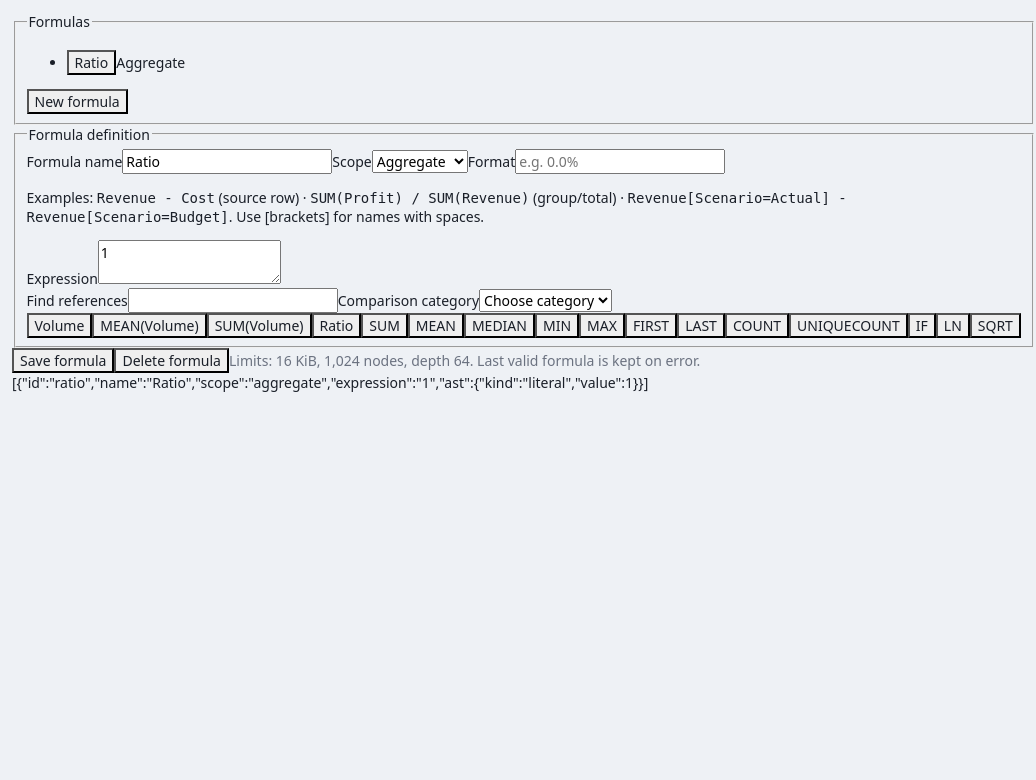
Test: resets inserted member proof when switching formula drafts
Select "Year (native)" in the dropdown labelled "Comparison category" at (546, 300), box [479,288,612,312]
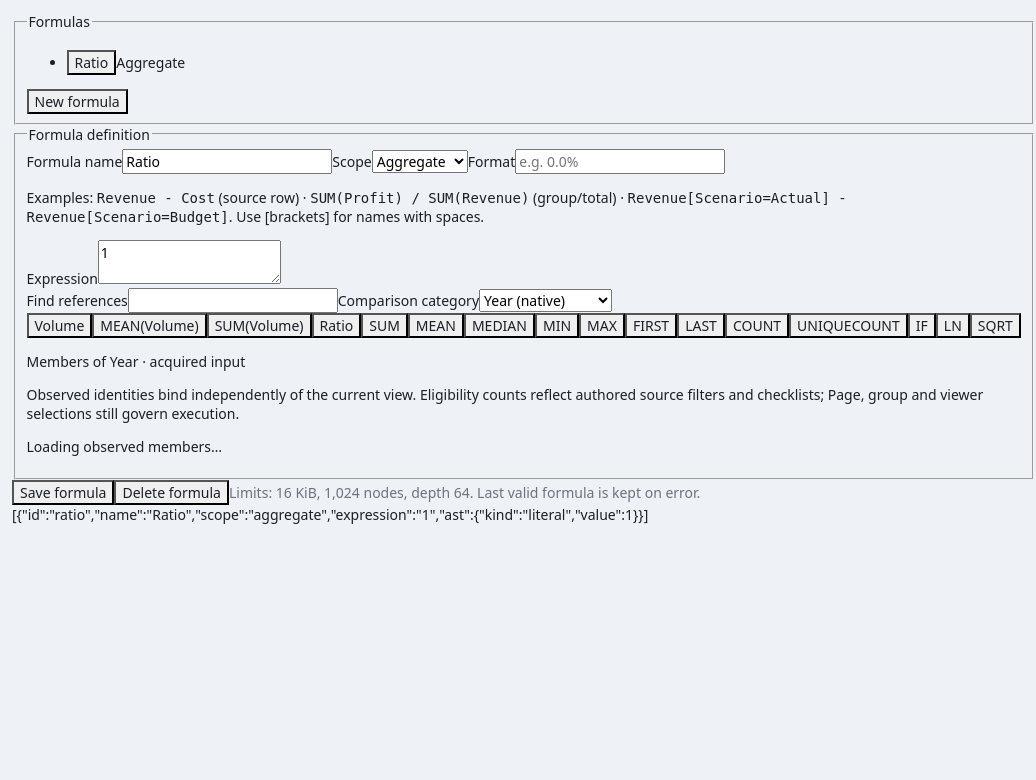
Replace the text in the text box labelled "Expression" with "[Volume — Average]" at (189, 262), box [98,240,281,284]
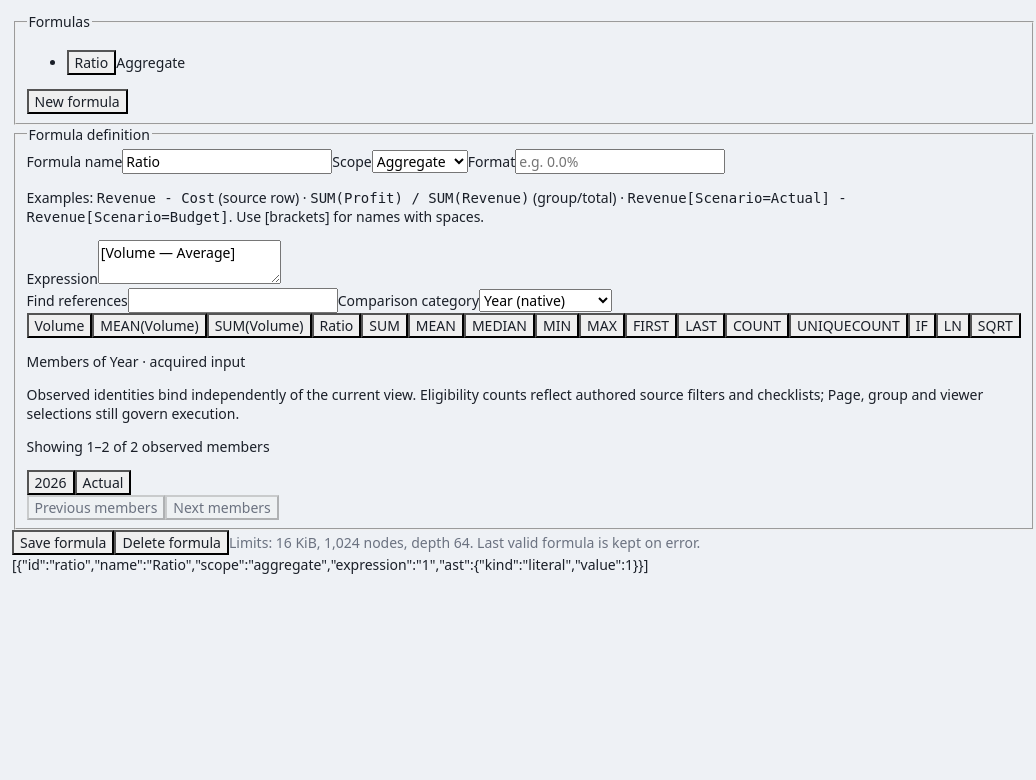
Click the button named "Insert 2026" at (50, 482), box [26,470,74,494]
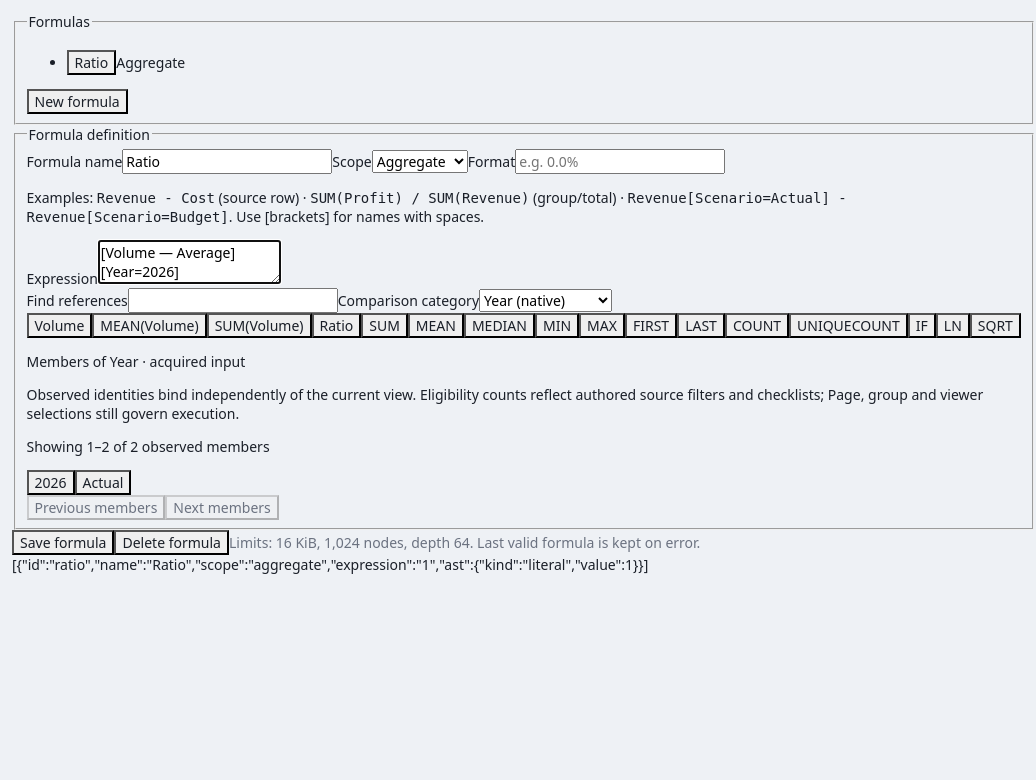
Click the button "New formula" at (77, 101), box [26,89,128,114]
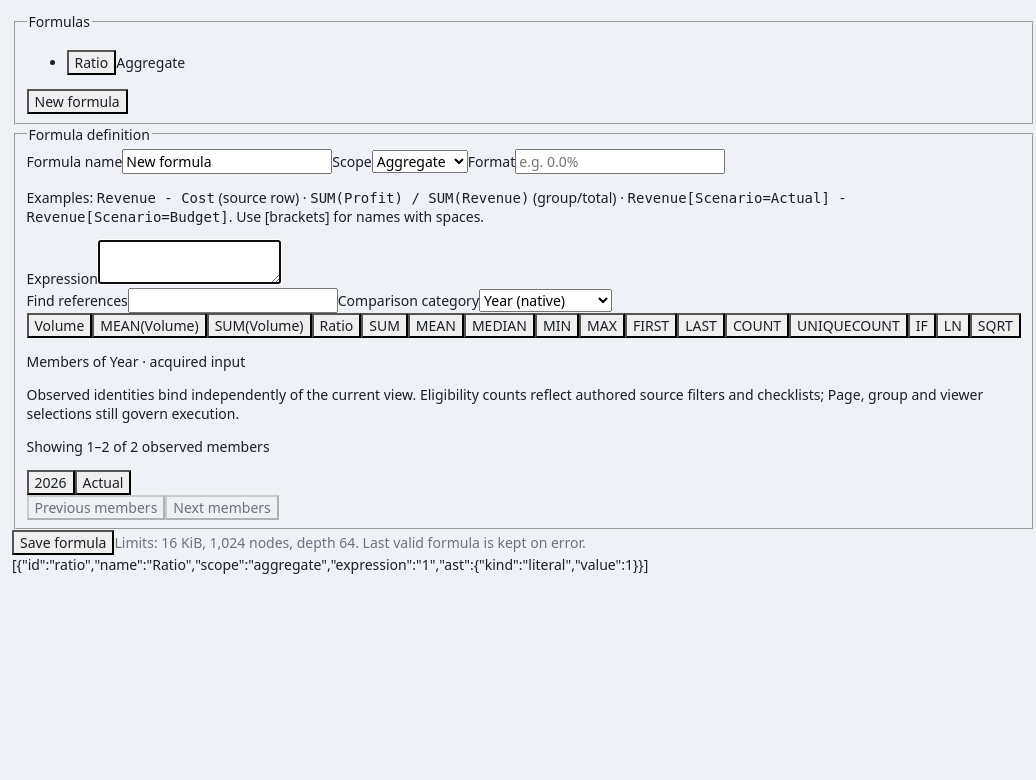
Select "Scenario (native)" in the dropdown labelled "Comparison category" at (546, 300), box [479,288,612,312]
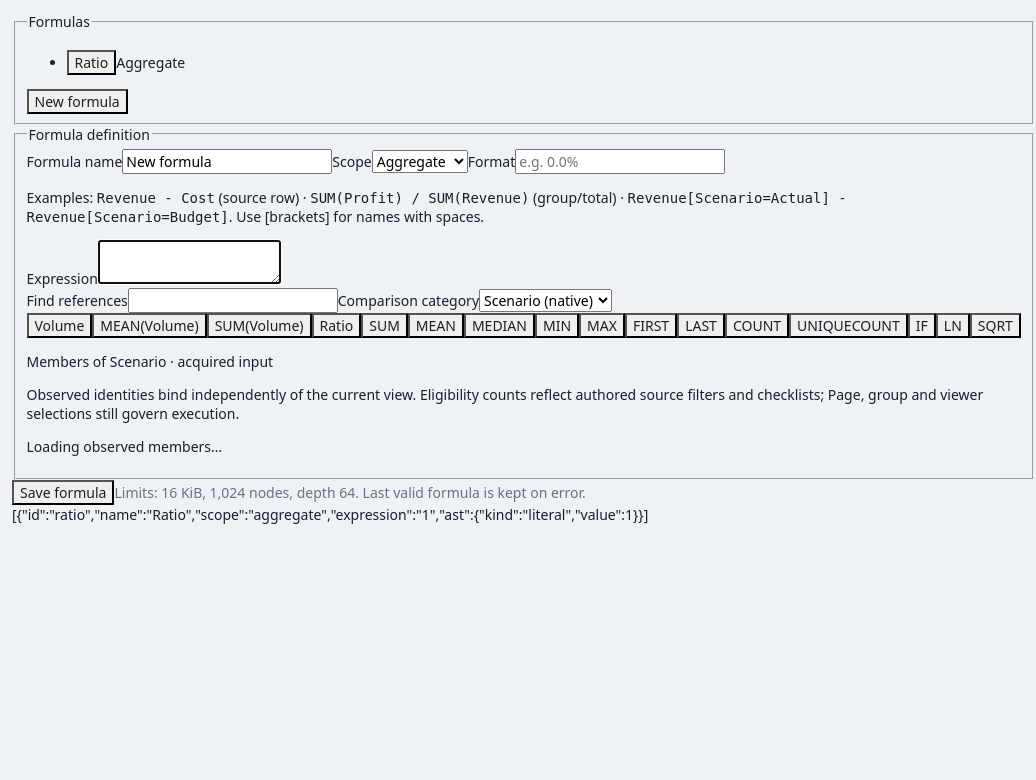
Type "[Volume — Average][ [Year]=2027]" into the text box labelled "Expression" at (189, 262), box [98,240,281,284]
Click the button "Save formula" at (63, 493), box [12,480,114,505]
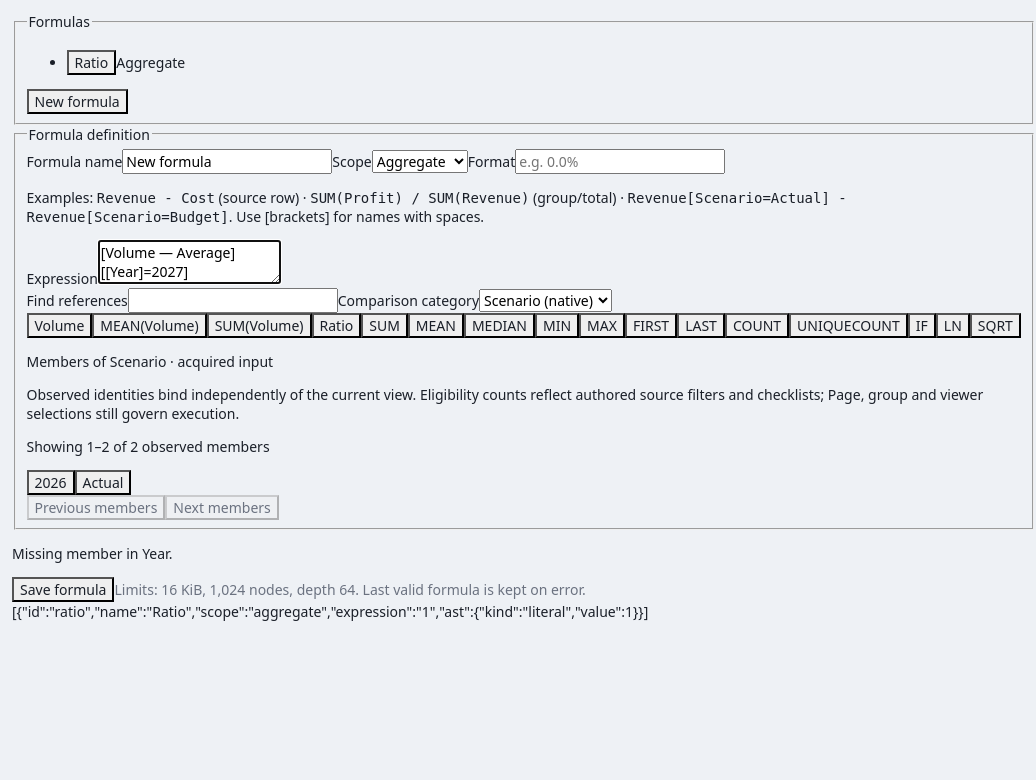
Expected: the text named "Saved model" does not show "year-2026", [12,602,648,621]
Now the message "Missing member in Year." is shown, box [12,544,172,563]
